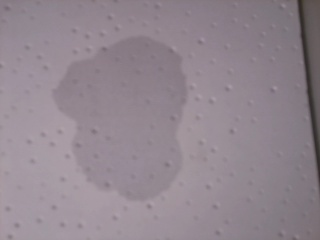Water_detected: (68, 58, 169, 184)
